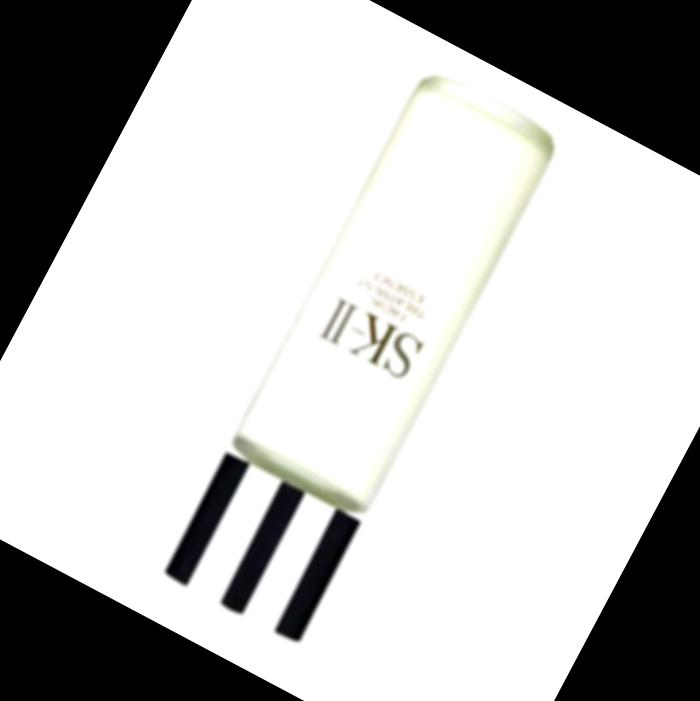cosmetic: (154, 59, 569, 643)
